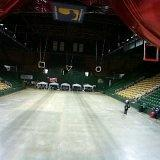Orange_Square_GShape: (144, 41, 159, 63)
Yellow_Square_GShape: (38, 61, 46, 68), (95, 66, 101, 72)
